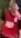red: (1, 0, 21, 38)
